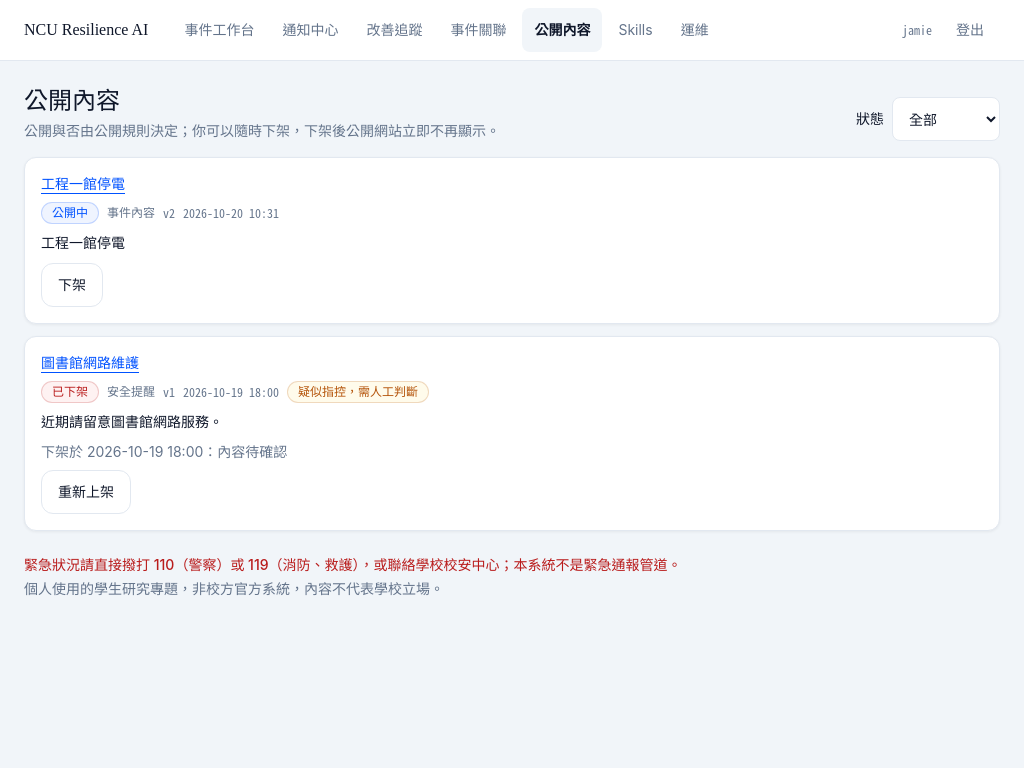
Test: Publications › 重新上架交回公開規則判斷，顯示判斷結果
The image size is (1024, 768).
Click the button "重新上架".
click(86, 492)  # box top-left (41, 470), bottom-right (131, 514)
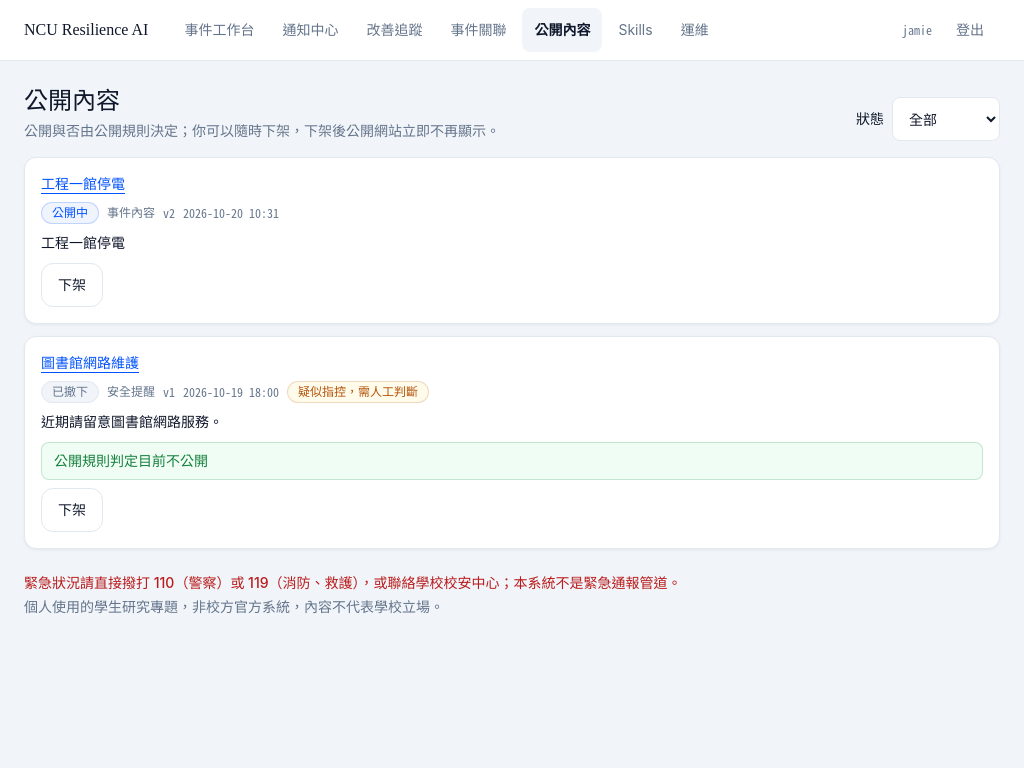
expect the text "已撤下" is shown: met, box top-left (41, 381), bottom-right (99, 403)
expect the message reads "公開規則判定目前不公開": met, box top-left (54, 452), bottom-right (208, 468)
